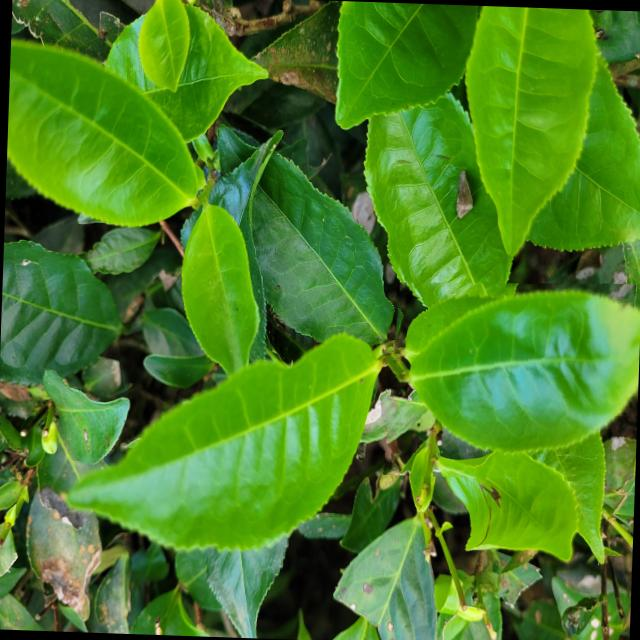Catagory A(1-2 days): (381, 274, 640, 483)
